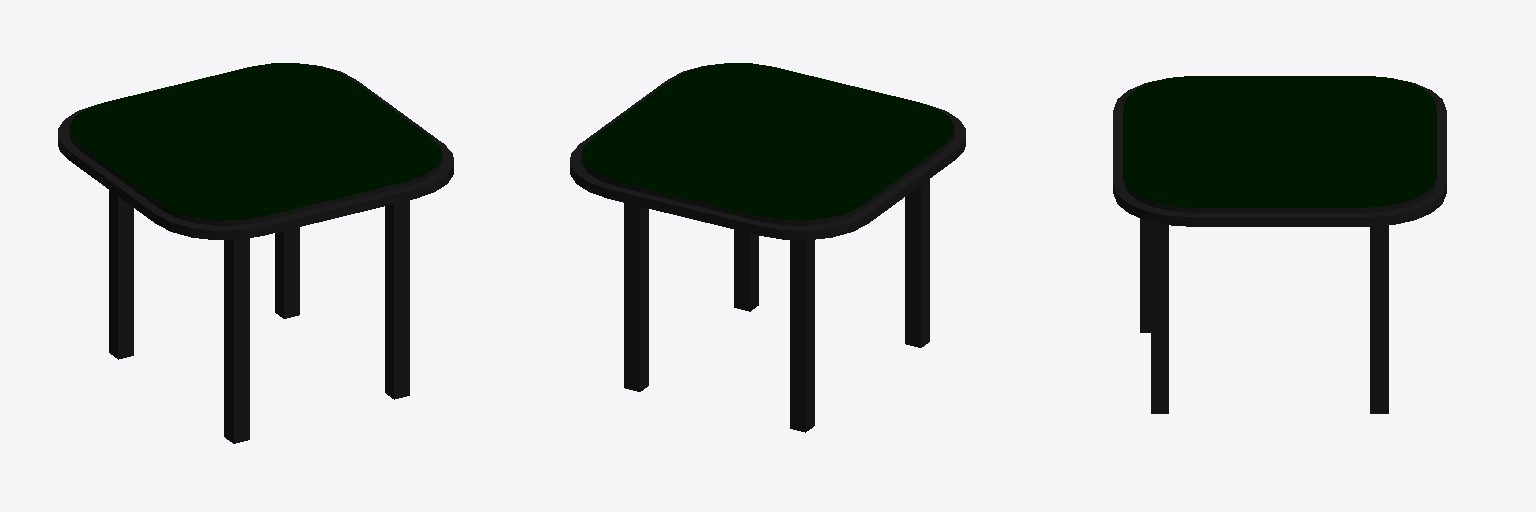
The model's file is ПЛОЩАДКА.obj.
3 views of the same model, side by side, from view 1: azimuth 30°, elevation 25°; view 2: azimuth 150°, elevation 25°; view 3: azimuth 270°, elevation 25° (orthographic).
Visible parts, largest first — view 1: Cube.004_Cube.005; view 2: Cube.004_Cube.005; view 3: Cube.004_Cube.005.
Part boxes in pixels (x1,y1,x2,y2): Cube.004_Cube.005: (58, 63, 453, 443); Cube.004_Cube.005: (570, 63, 965, 432); Cube.004_Cube.005: (1113, 76, 1446, 413).
Size of the model in its own units: 18.63 by 14.1 by 18.63.